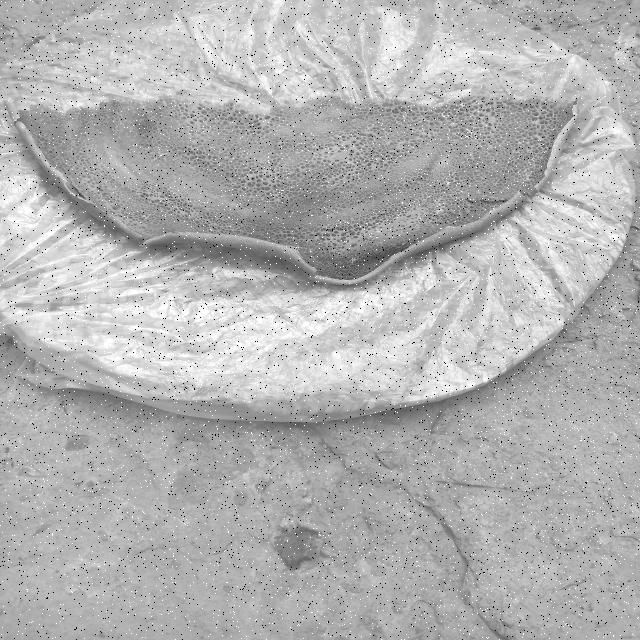injera_mold: (518, 168, 537, 188), (429, 204, 449, 217), (464, 125, 476, 141), (440, 108, 457, 119), (450, 193, 463, 201), (507, 157, 517, 167), (532, 110, 546, 116), (338, 190, 348, 198), (348, 256, 358, 264), (344, 163, 354, 170), (354, 173, 363, 180), (533, 156, 543, 162), (295, 244, 302, 251), (538, 167, 546, 173), (540, 142, 548, 148), (458, 102, 466, 108), (142, 214, 150, 219), (417, 199, 424, 203), (445, 181, 451, 185), (401, 243, 406, 246), (425, 182, 430, 185), (436, 143, 441, 145), (376, 231, 380, 233), (456, 104, 458, 106), (454, 104, 456, 105)
